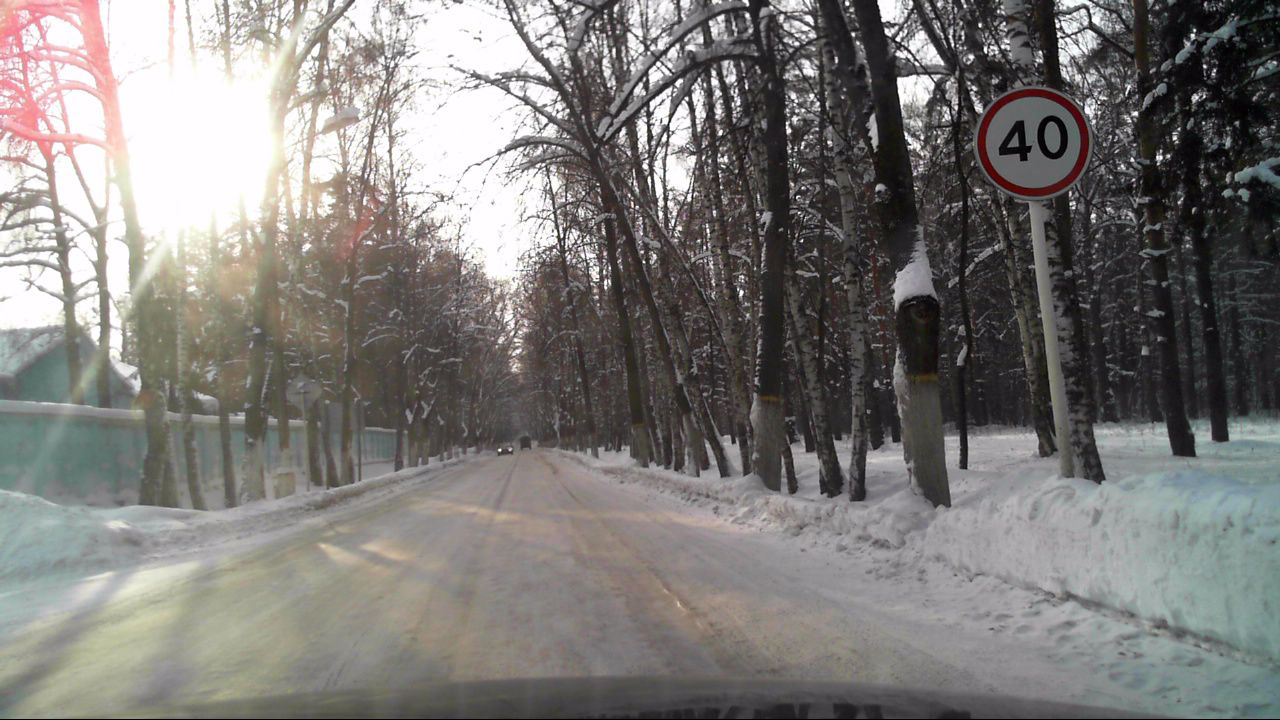speed_warning_40: (974, 86, 1093, 199)
